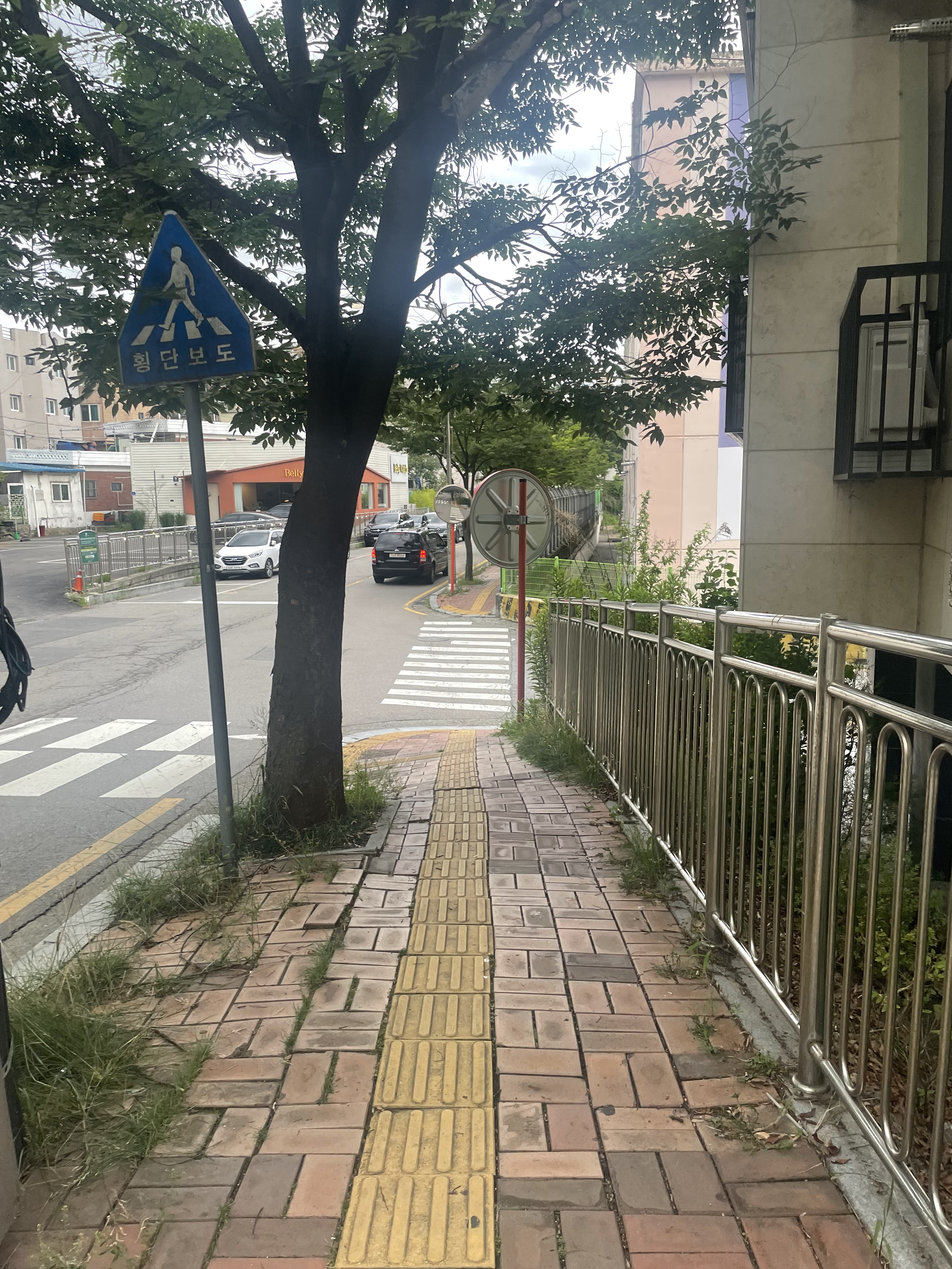car: (371, 527, 448, 584), (214, 527, 283, 577), (364, 511, 407, 546), (212, 511, 279, 526), (424, 513, 450, 542), (267, 500, 292, 522)
